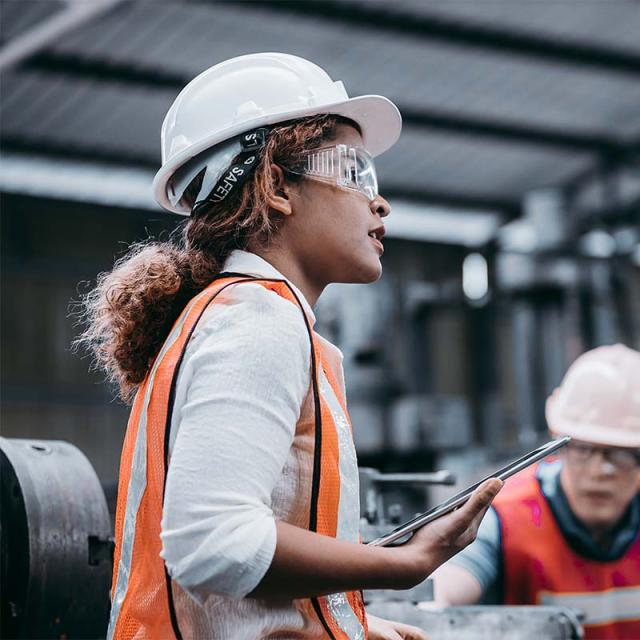goggles: (261, 143, 389, 202)
helmet: (154, 56, 411, 148), (542, 342, 640, 451)
vest: (113, 277, 384, 640), (502, 458, 640, 636)
